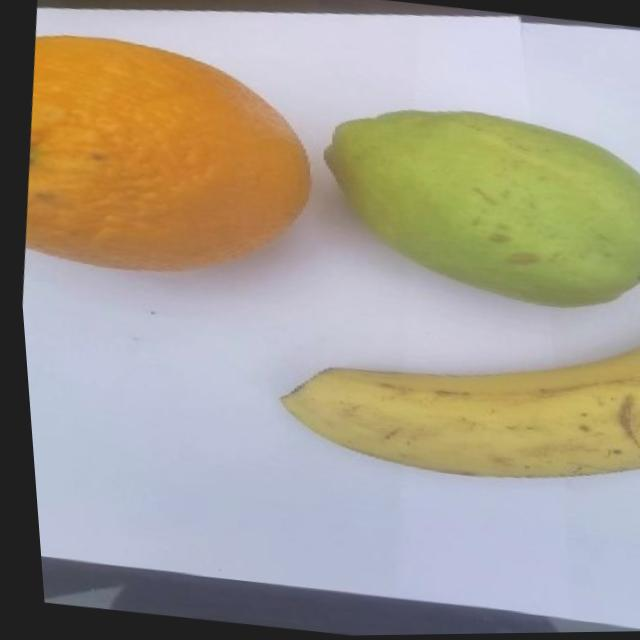Banana: (261, 294, 640, 504)
Orange: (8, 27, 329, 295)
